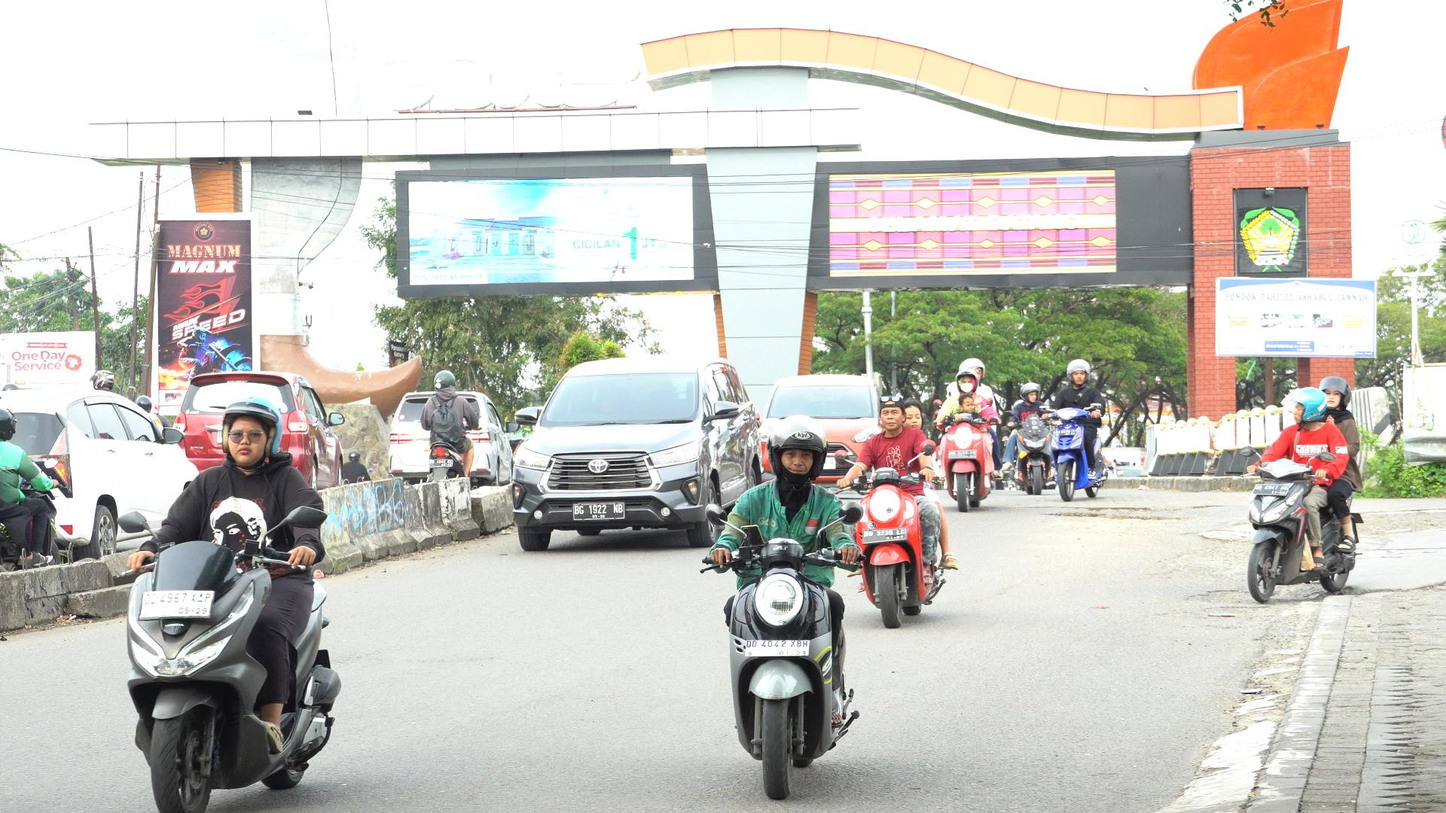number-plate: (741, 637, 811, 655)
